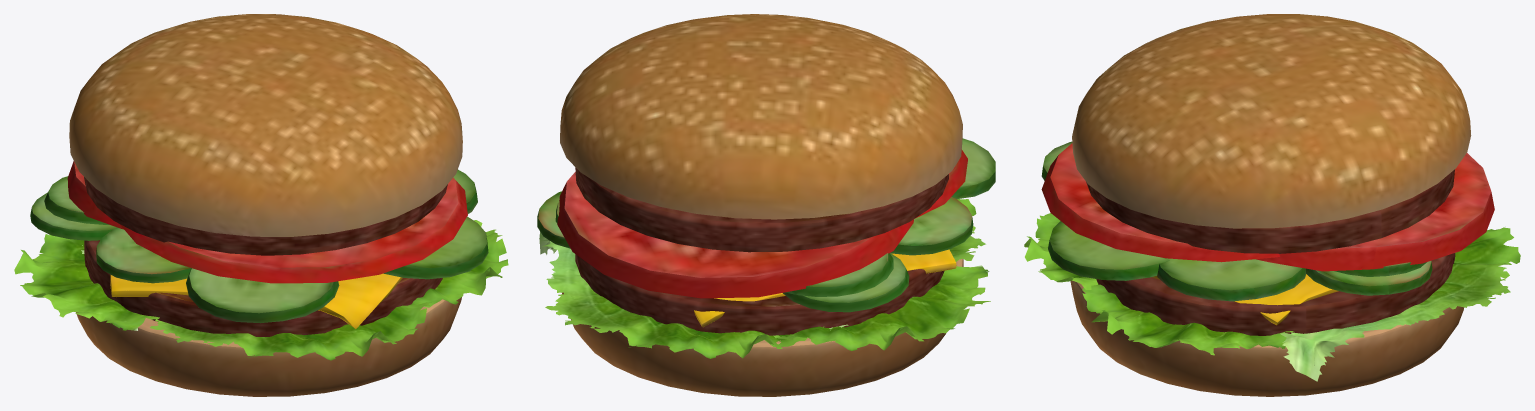
File: golden-oak-burger-ultralight.glb
The picture shows the model from 3 angles, left to right: view 1: azimuth 30°, elevation 25°; view 2: azimuth 150°, elevation 25°; view 3: azimuth 270°, elevation 25°; orthographic projection. The views are drawn at different scales.
Parts seen in each view (by area): view 1: Burger_Top_Bun_Full, Burger_Bottom_Bun, Burger_Cucumbers, Burger_Tomato_Front, Burger_Patty_Top, Burger_Patty_Bottom, pPlane16, pPlane17, Burger_Cheese, pPlane14, Burger_Tomato_Back; view 2: Burger_Top_Bun_Full, Burger_Tomato_Back, Burger_Bottom_Bun, Burger_Patty_Top, Burger_Cucumbers, Burger_Patty_Bottom, pPlane15, pPlane16, Burger_Cheese, Burger_Tomato_Front, pPlane17; view 3: Burger_Top_Bun_Full, Burger_Bottom_Bun, Burger_Cucumbers, Burger_Patty_Bottom, Burger_Patty_Top, Burger_Tomato_Back, pPlane15, Burger_Tomato_Front, pPlane14, pPlane17, Burger_Cheese.
Boxes of the visible parts, x1,y1,x2,y2 form: Burger_Top_Bun_Full: (69,14,462,236); Burger_Bottom_Bun: (76,297,461,396); Burger_Cucumbers: (30,169,488,323); Burger_Tomato_Front: (119,177,467,283); Burger_Patty_Top: (84,177,447,255); Burger_Patty_Bottom: (84,240,442,336); pPlane16: (14,234,159,330); pPlane17: (81,245,431,360); Burger_Cheese: (110,273,402,328); pPlane14: (409,220,508,307); Burger_Tomato_Back: (67,161,123,229); Burger_Top_Bun_Full: (560,14,962,219); Burger_Tomato_Back: (557,172,913,298); Burger_Bottom_Bun: (562,259,963,396); Burger_Patty_Top: (575,167,948,252); Burger_Cucumbers: (537,138,995,312); Burger_Patty_Bottom: (575,254,944,335); pPlane15: (539,231,824,358); pPlane16: (772,265,990,350); Burger_Cheese: (694,249,956,327); Burger_Tomato_Front: (915,149,967,218); pPlane17: (829,199,985,330); Burger_Top_Bun_Full: (1072,14,1471,228); Burger_Bottom_Bun: (1070,280,1464,396); Burger_Cucumbers: (1041,141,1432,301); Burger_Patty_Bottom: (1096,253,1455,335); Burger_Patty_Top: (1086,169,1454,253); Burger_Tomato_Back: (1256,153,1494,271); pPlane15: (1280,227,1520,381); Burger_Tomato_Front: (1041,143,1279,262); pPlane14: (1082,283,1293,355); pPlane17: (1024,213,1097,289); Burger_Cheese: (1152,274,1338,325).
Size of the model in its own units: 1.98 by 1.21 by 2.
Materials: 3 (3 with a texture image).
